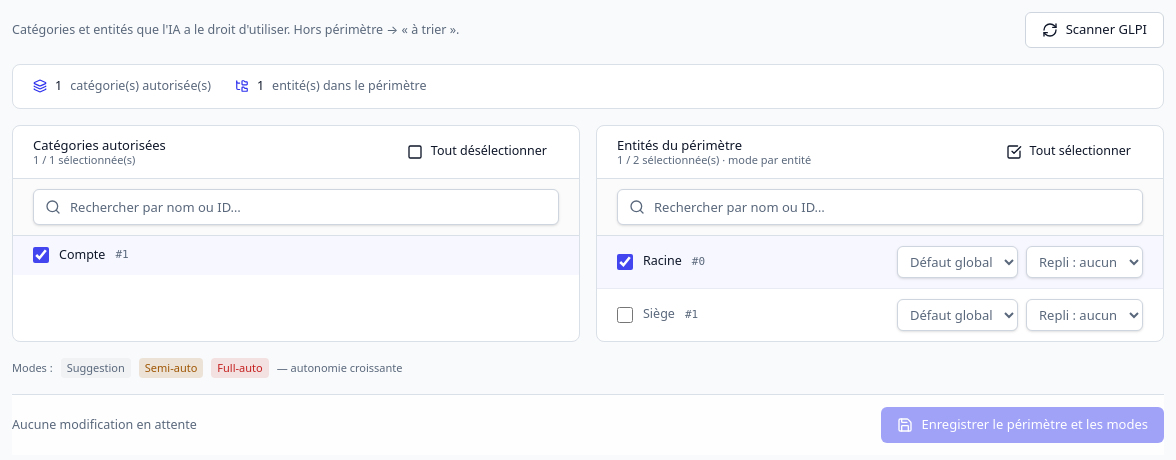
it: Scope — barre d'enregistrement, confirmation et garde de sortie › le bouton reste inerte tant que rien n'est modifié, puis le compteur dit combien
This screenshot has width=1176, height=460.
expect the button "Enregistrer le périmètre et les modes" is disabled: met, box [881,407,1164,443]
expect the text "Aucune modification en attente" is shown: met, box [12,416,197,435]
Click the checkbox labelled "Siège #1" at (625, 315), box [617,307,633,323]
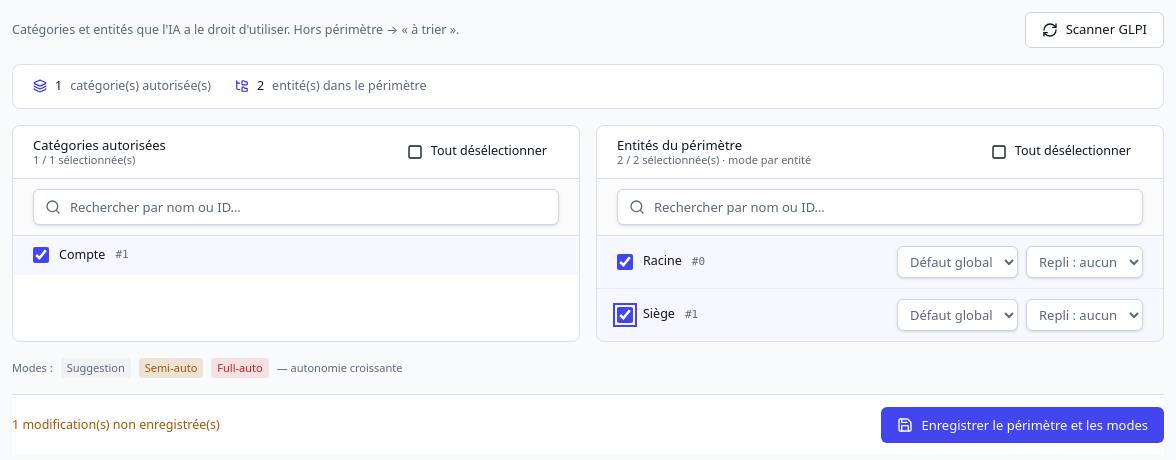
expect the button "Enregistrer le périmètre et les modes" is enabled: met, box [881,407,1164,443]
expect the text "1 modification(s) non enregistrée(s)" is shown: met, box [12,416,220,435]
